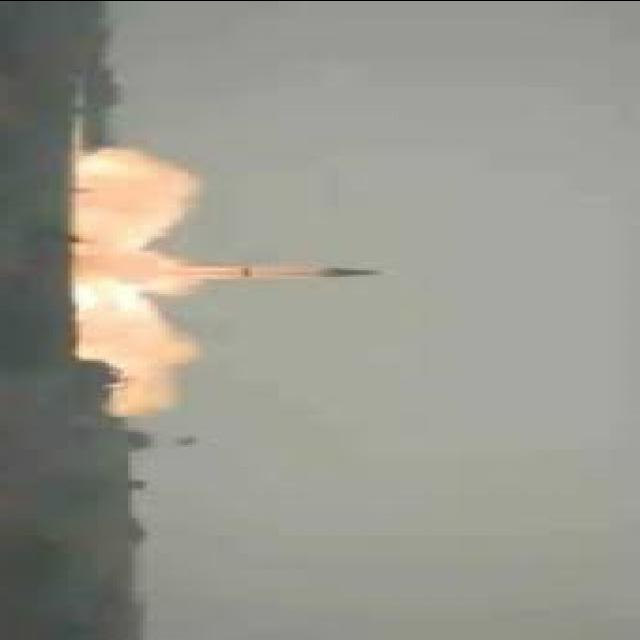missile: (71, 256, 382, 287)
